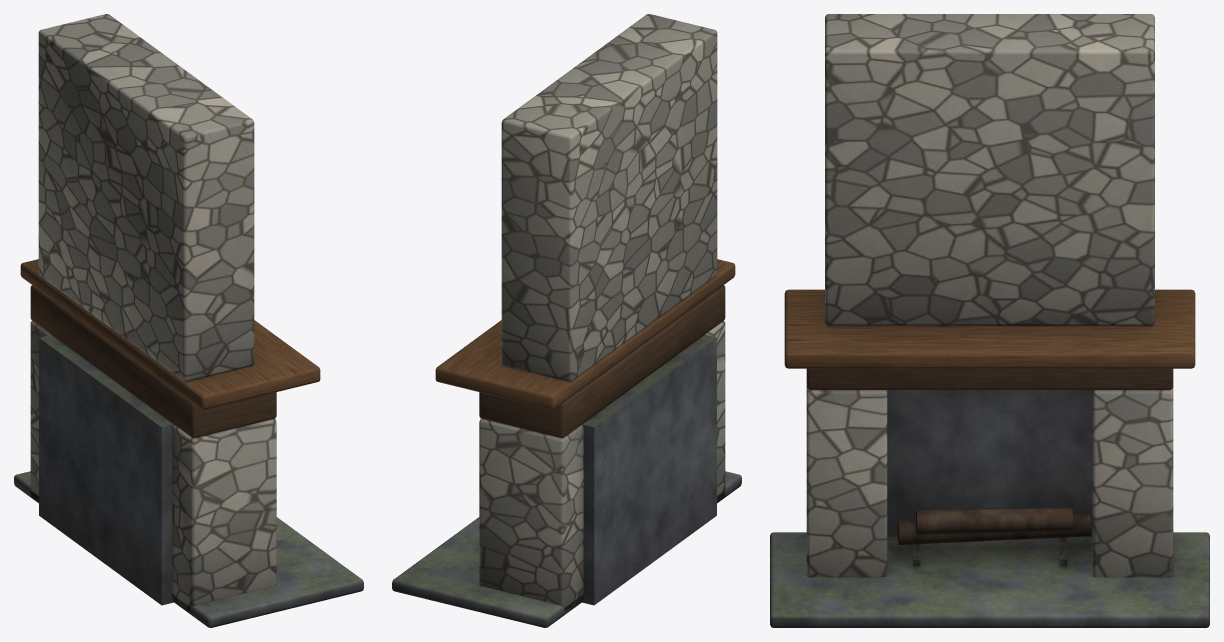
The model's file is home_fireplace.glb.
The picture shows the model from 3 angles, left to right: view 1: azimuth 30°, elevation 25°; view 2: azimuth 150°, elevation 25°; view 3: azimuth 270°, elevation 25°; orthographic projection. The views are drawn at different scales.
Parts seen in each view (by area): view 1: home_fireplace; view 2: home_fireplace; view 3: home_fireplace.
Boxes of the visible parts, x1,y1,x2,y2 form: home_fireplace: (14,14,363,627); home_fireplace: (392,14,741,627); home_fireplace: (770,14,1209,627).
Size of the model in its own units: 1.17 by 3.2 by 2.4.
1 material, 1 textured.
